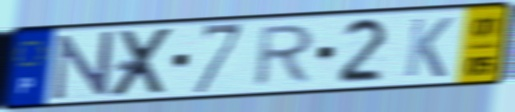2: (336, 15, 393, 87)
7: (191, 22, 248, 97)
K: (402, 15, 456, 79)
N: (50, 29, 116, 103)
R: (249, 21, 319, 89)
X: (106, 25, 179, 100)
